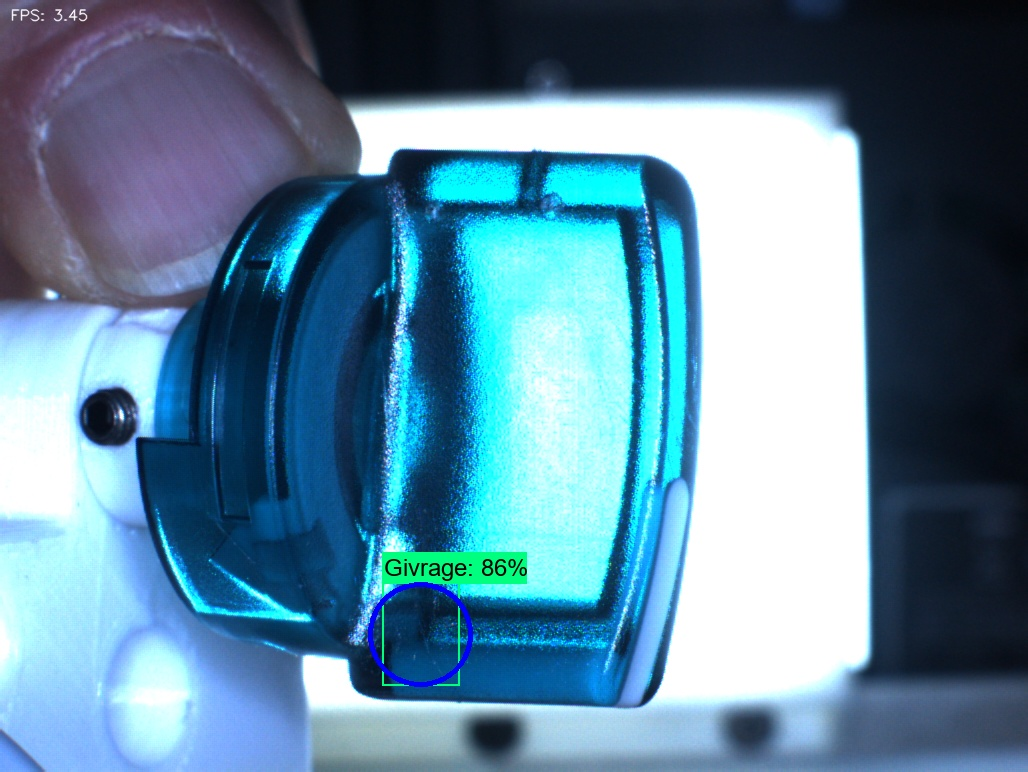Bulle: (508, 167, 593, 260)
